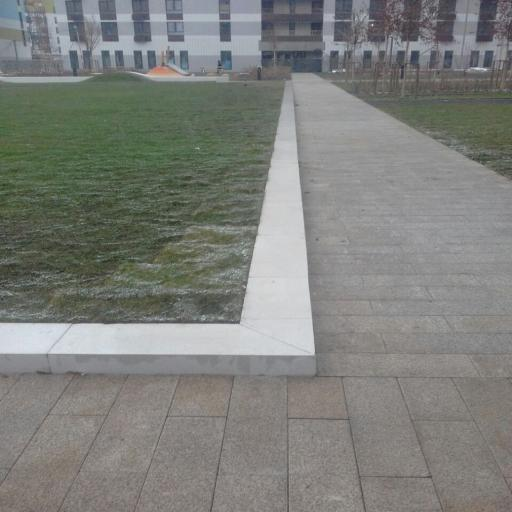glass_wall: (236, 71, 512, 512)
